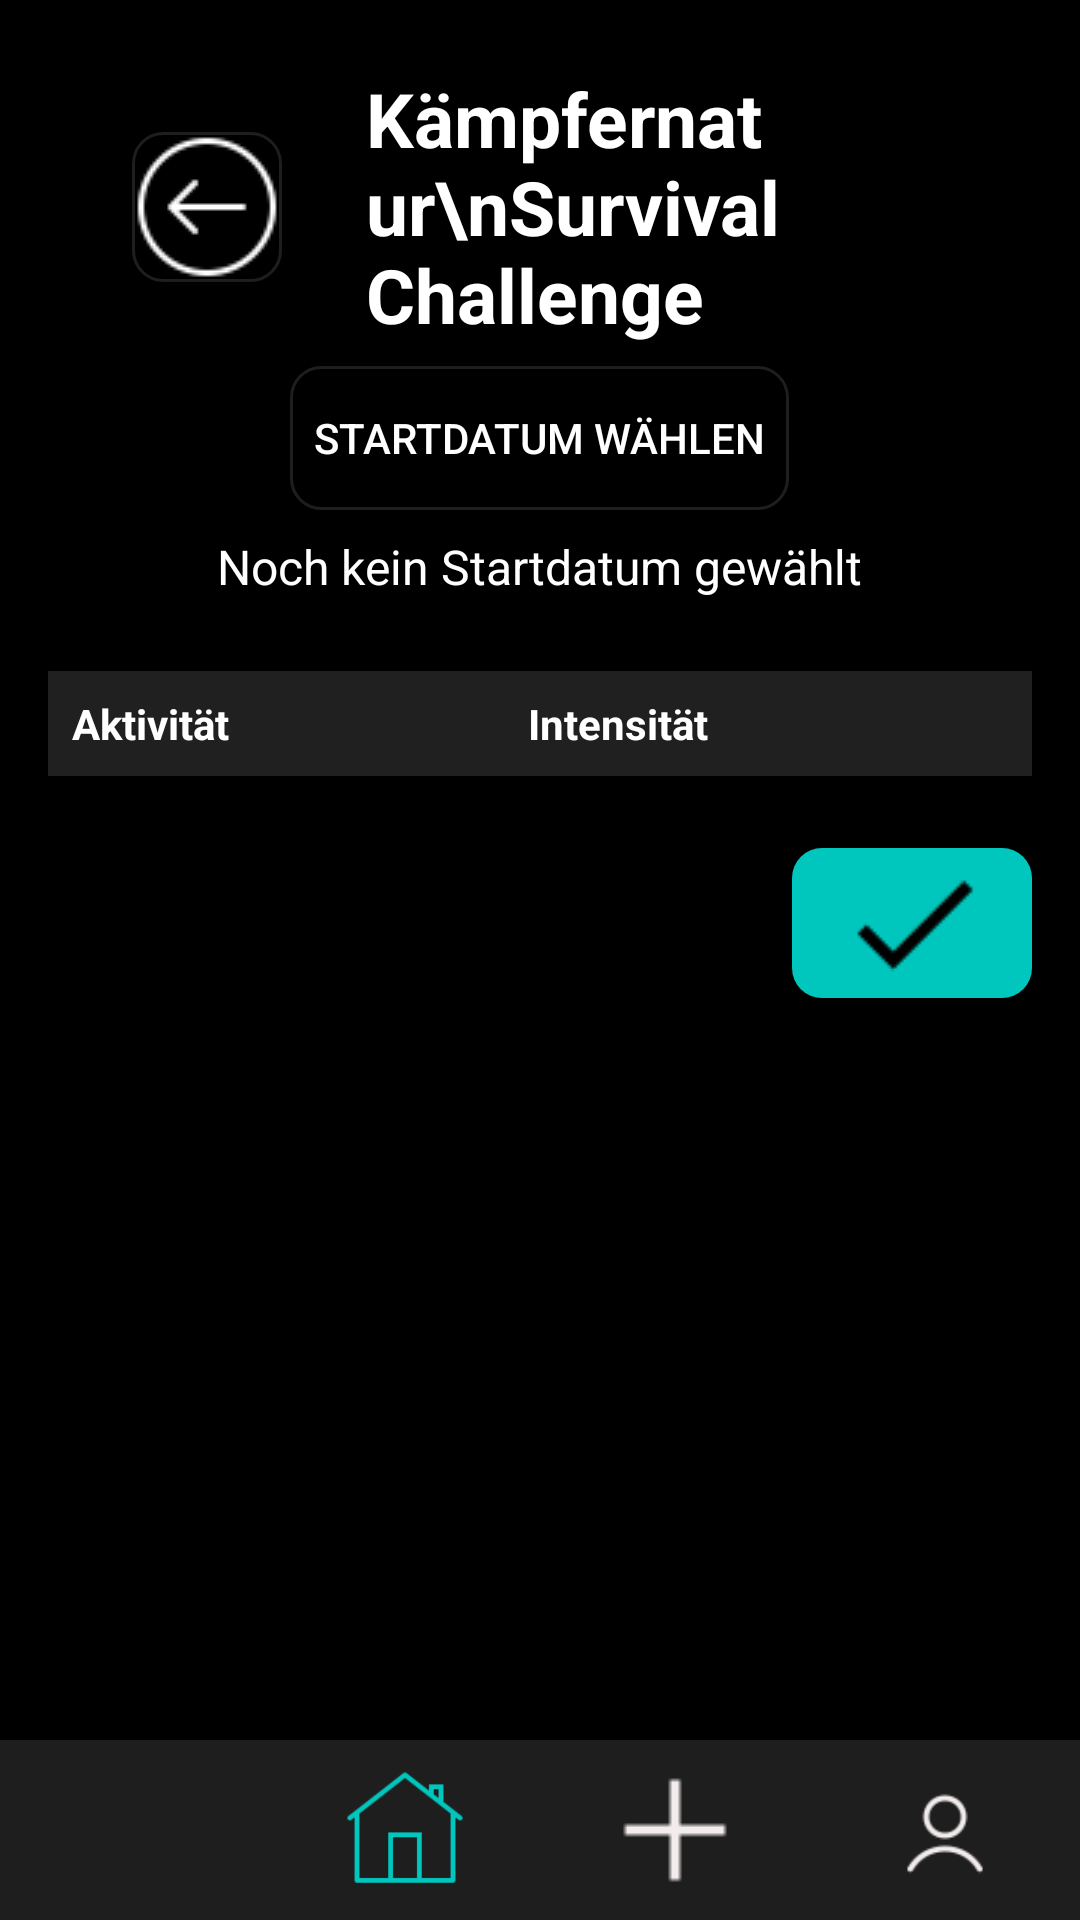

Where icons sit on this 1080px x 1920px app screen, as (x1, y1, x2, y2):
add: (623, 1778, 727, 1882)
Auswahl bestätigen: (792, 848, 1032, 998)
home: (347, 1772, 463, 1883)
profile: (907, 1794, 983, 1873)
Zurück: (132, 132, 282, 282)
